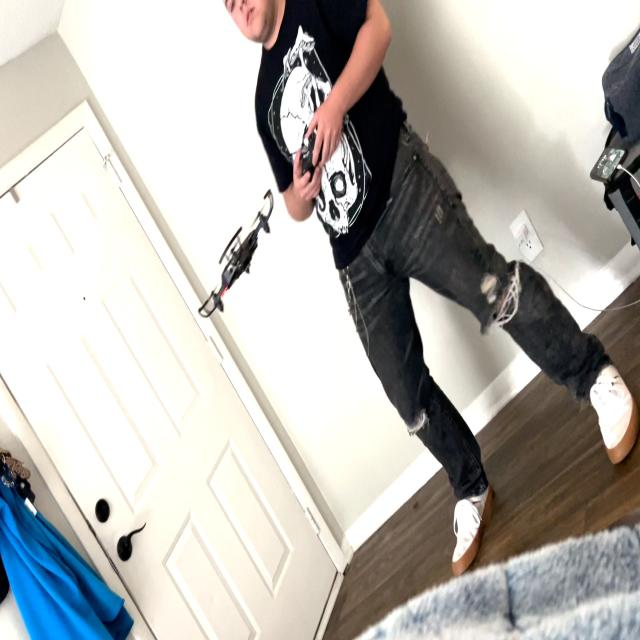drone: (188, 180, 282, 334)
